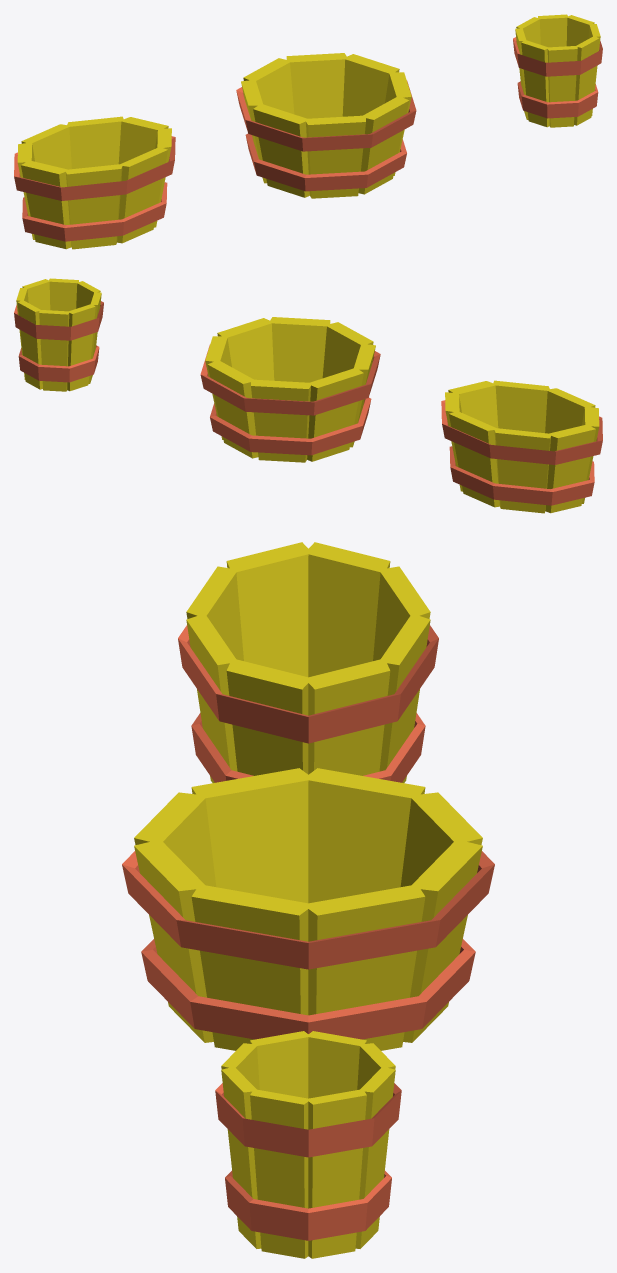
Rendered from Basket_MOD_0004.fbx.
The picture shows the model from 3 angles, top to bottom: view 1: azimuth 30°, elevation 25°; view 2: azimuth 150°, elevation 25°; view 3: azimuth 270°, elevation 25°; orthographic projection. The views are drawn at different scales.
Parts seen in each view (by area): view 1: Metal, Metal.001, Metal.002; view 2: Metal, Metal.001, Metal.002; view 3: Metal, Metal.001, Metal.002.
Boxes of the visible parts, left/top/right/bottom form: Metal: left=236, top=53, right=416, bottom=198; Metal.001: left=14, top=116, right=175, bottom=249; Metal.002: left=513, top=14, right=602, bottom=127; Metal: left=200, top=317, right=380, bottom=462; Metal.001: left=441, top=380, right=602, bottom=513; Metal.002: left=14, top=278, right=103, bottom=391; Metal: left=122, top=768, right=494, bottom=1050; Metal.001: left=178, top=542, right=438, bottom=782; Metal.002: left=215, top=1031, right=401, bottom=1258.
Size of the model in its own units: 757 by 100 by 209.
